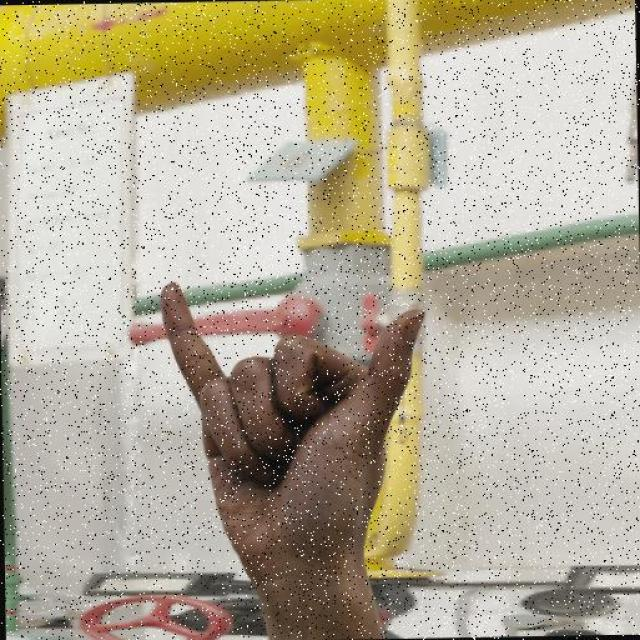Y: (143, 276, 428, 576)
